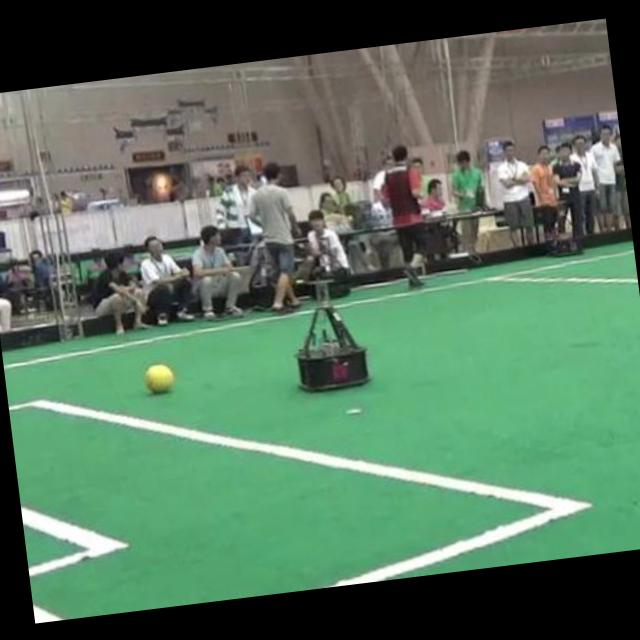ball: (143, 363, 173, 392)
robot: (296, 280, 369, 390)
